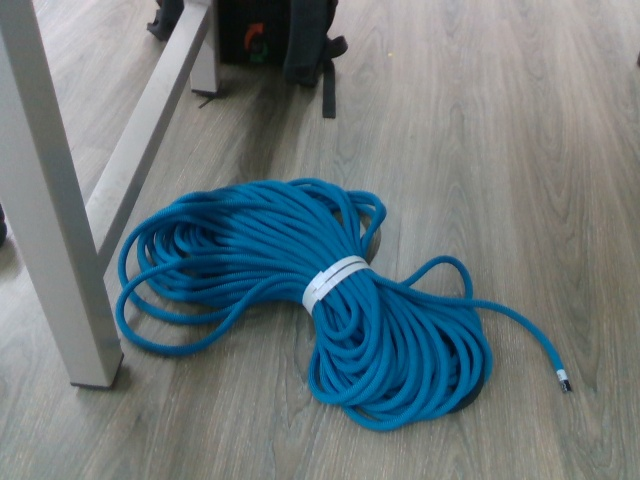rope: (110, 175, 582, 434)
